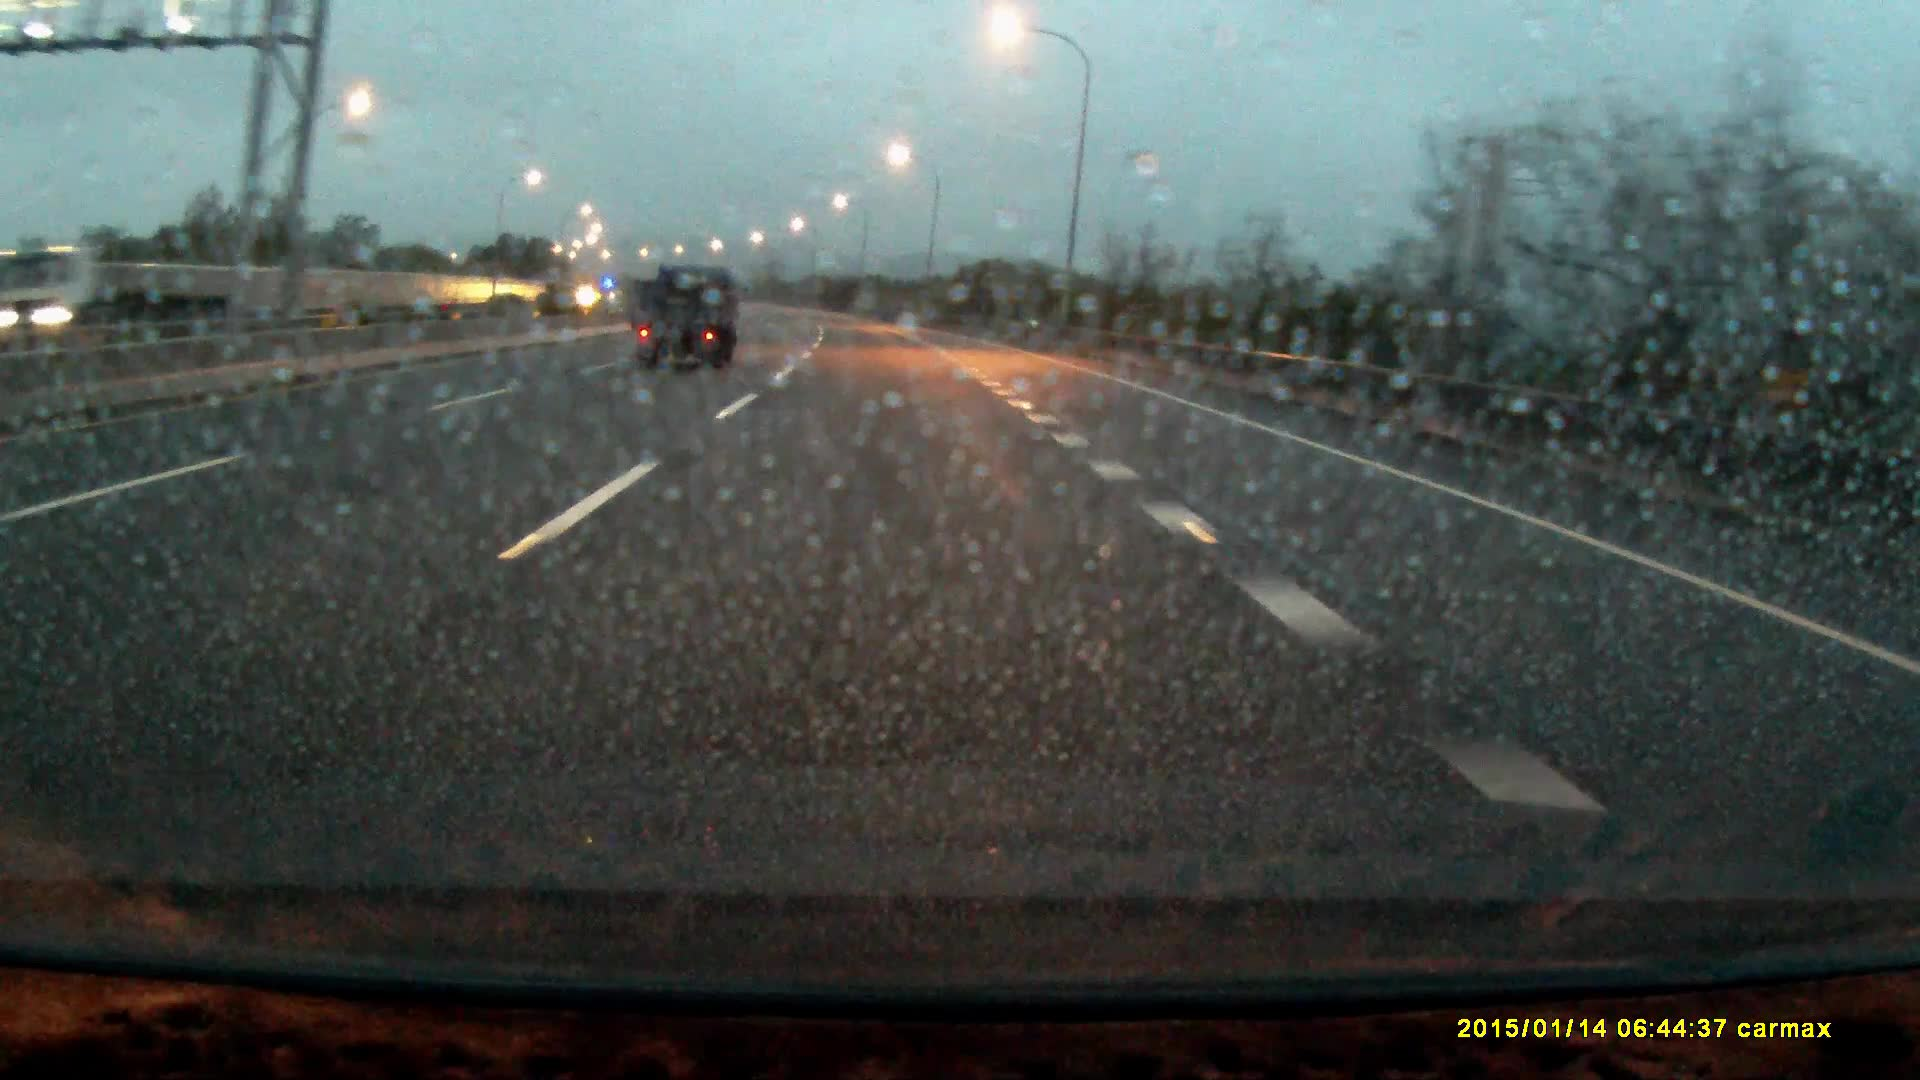vehicle: (18, 251, 243, 326), (636, 262, 741, 372)
